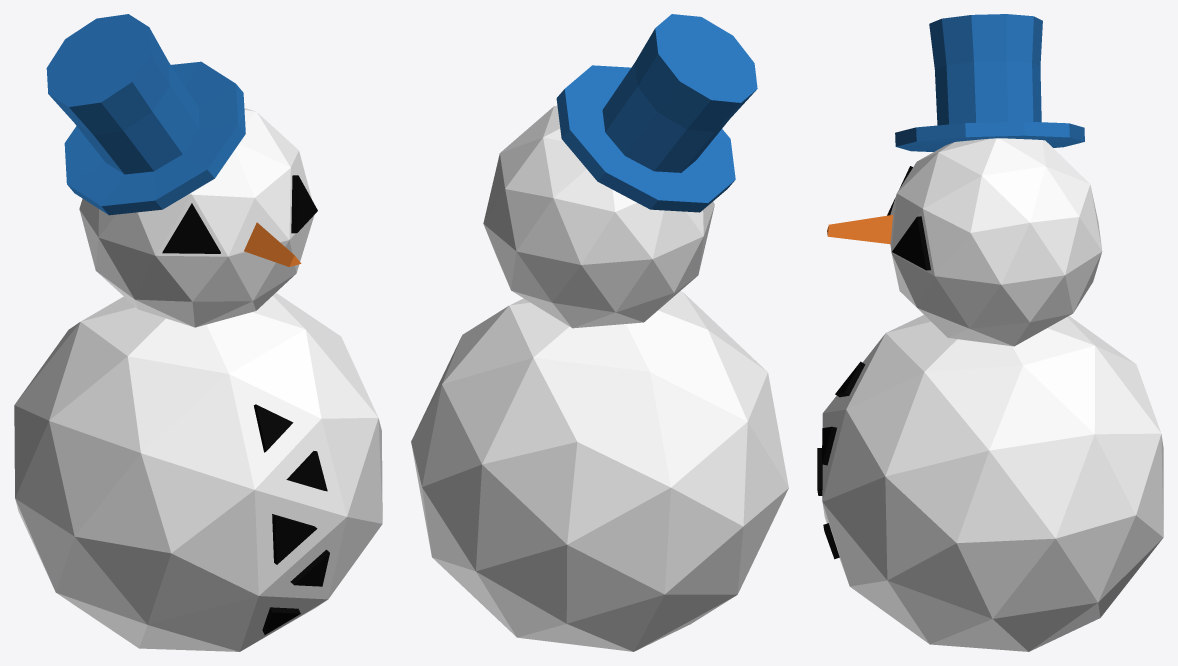
Rendered from snowmanreg.fbx.
3 renders of one model, left to right at view 1: azimuth 30°, elevation 25°; view 2: azimuth 150°, elevation 25°; view 3: azimuth 270°, elevation 25°, orthographic. The views are drawn at different scales.
Parts seen in each view (by area): view 1: polySurface1; view 2: polySurface1; view 3: polySurface1.
Boxes of the visible parts, x1,y1,x2,y2 form: polySurface1: [14, 14, 382, 651]; polySurface1: [411, 14, 788, 651]; polySurface1: [817, 14, 1163, 651].
Bounding box in the file's own units: 1.96 × 3.63 × 1.91.
